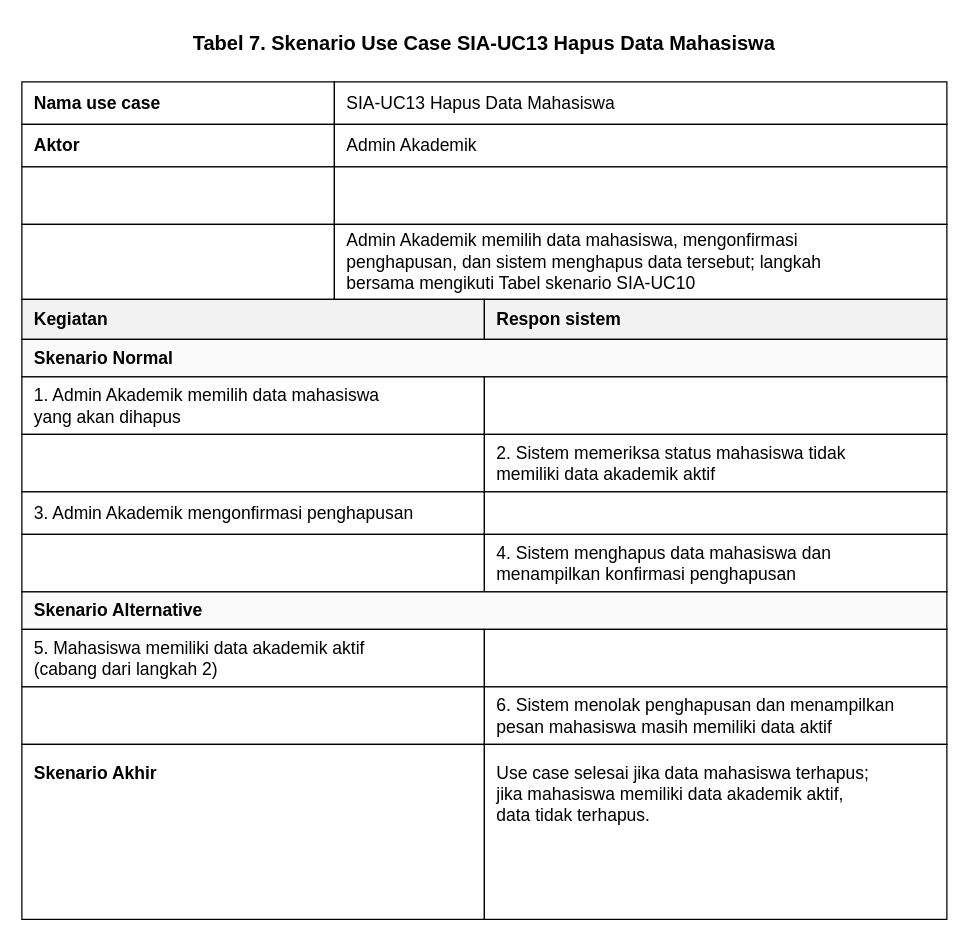
Image size: 969x941. Some labels were removed from this diagram. Each missing label, with the centre of its shape:
Data mahasiswa terhapus sebagai bentuk khusus dari pengelolaan data mahasiswa: point (640, 195)
Deskripsi: point (177, 261)
Tujuan: point (177, 195)
